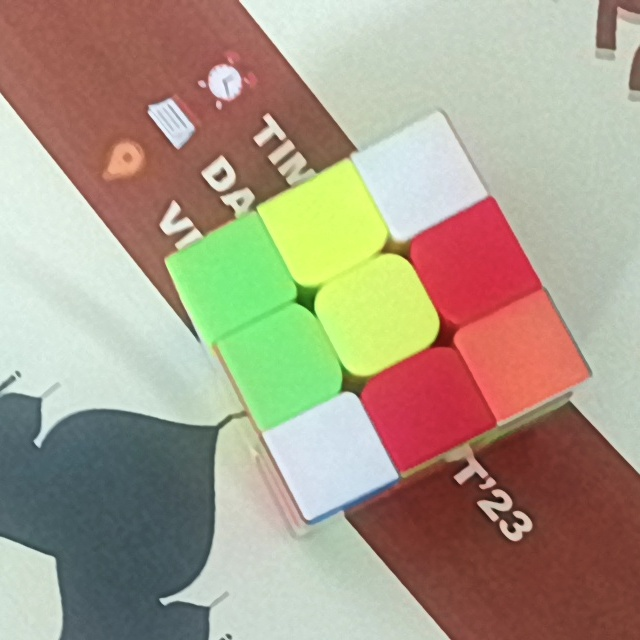tile: (481, 317, 561, 392), (337, 281, 419, 351), (191, 244, 271, 312), (388, 369, 466, 436), (435, 227, 508, 298), (289, 193, 363, 262), (296, 420, 367, 490), (251, 329, 319, 400), (383, 146, 454, 211)
